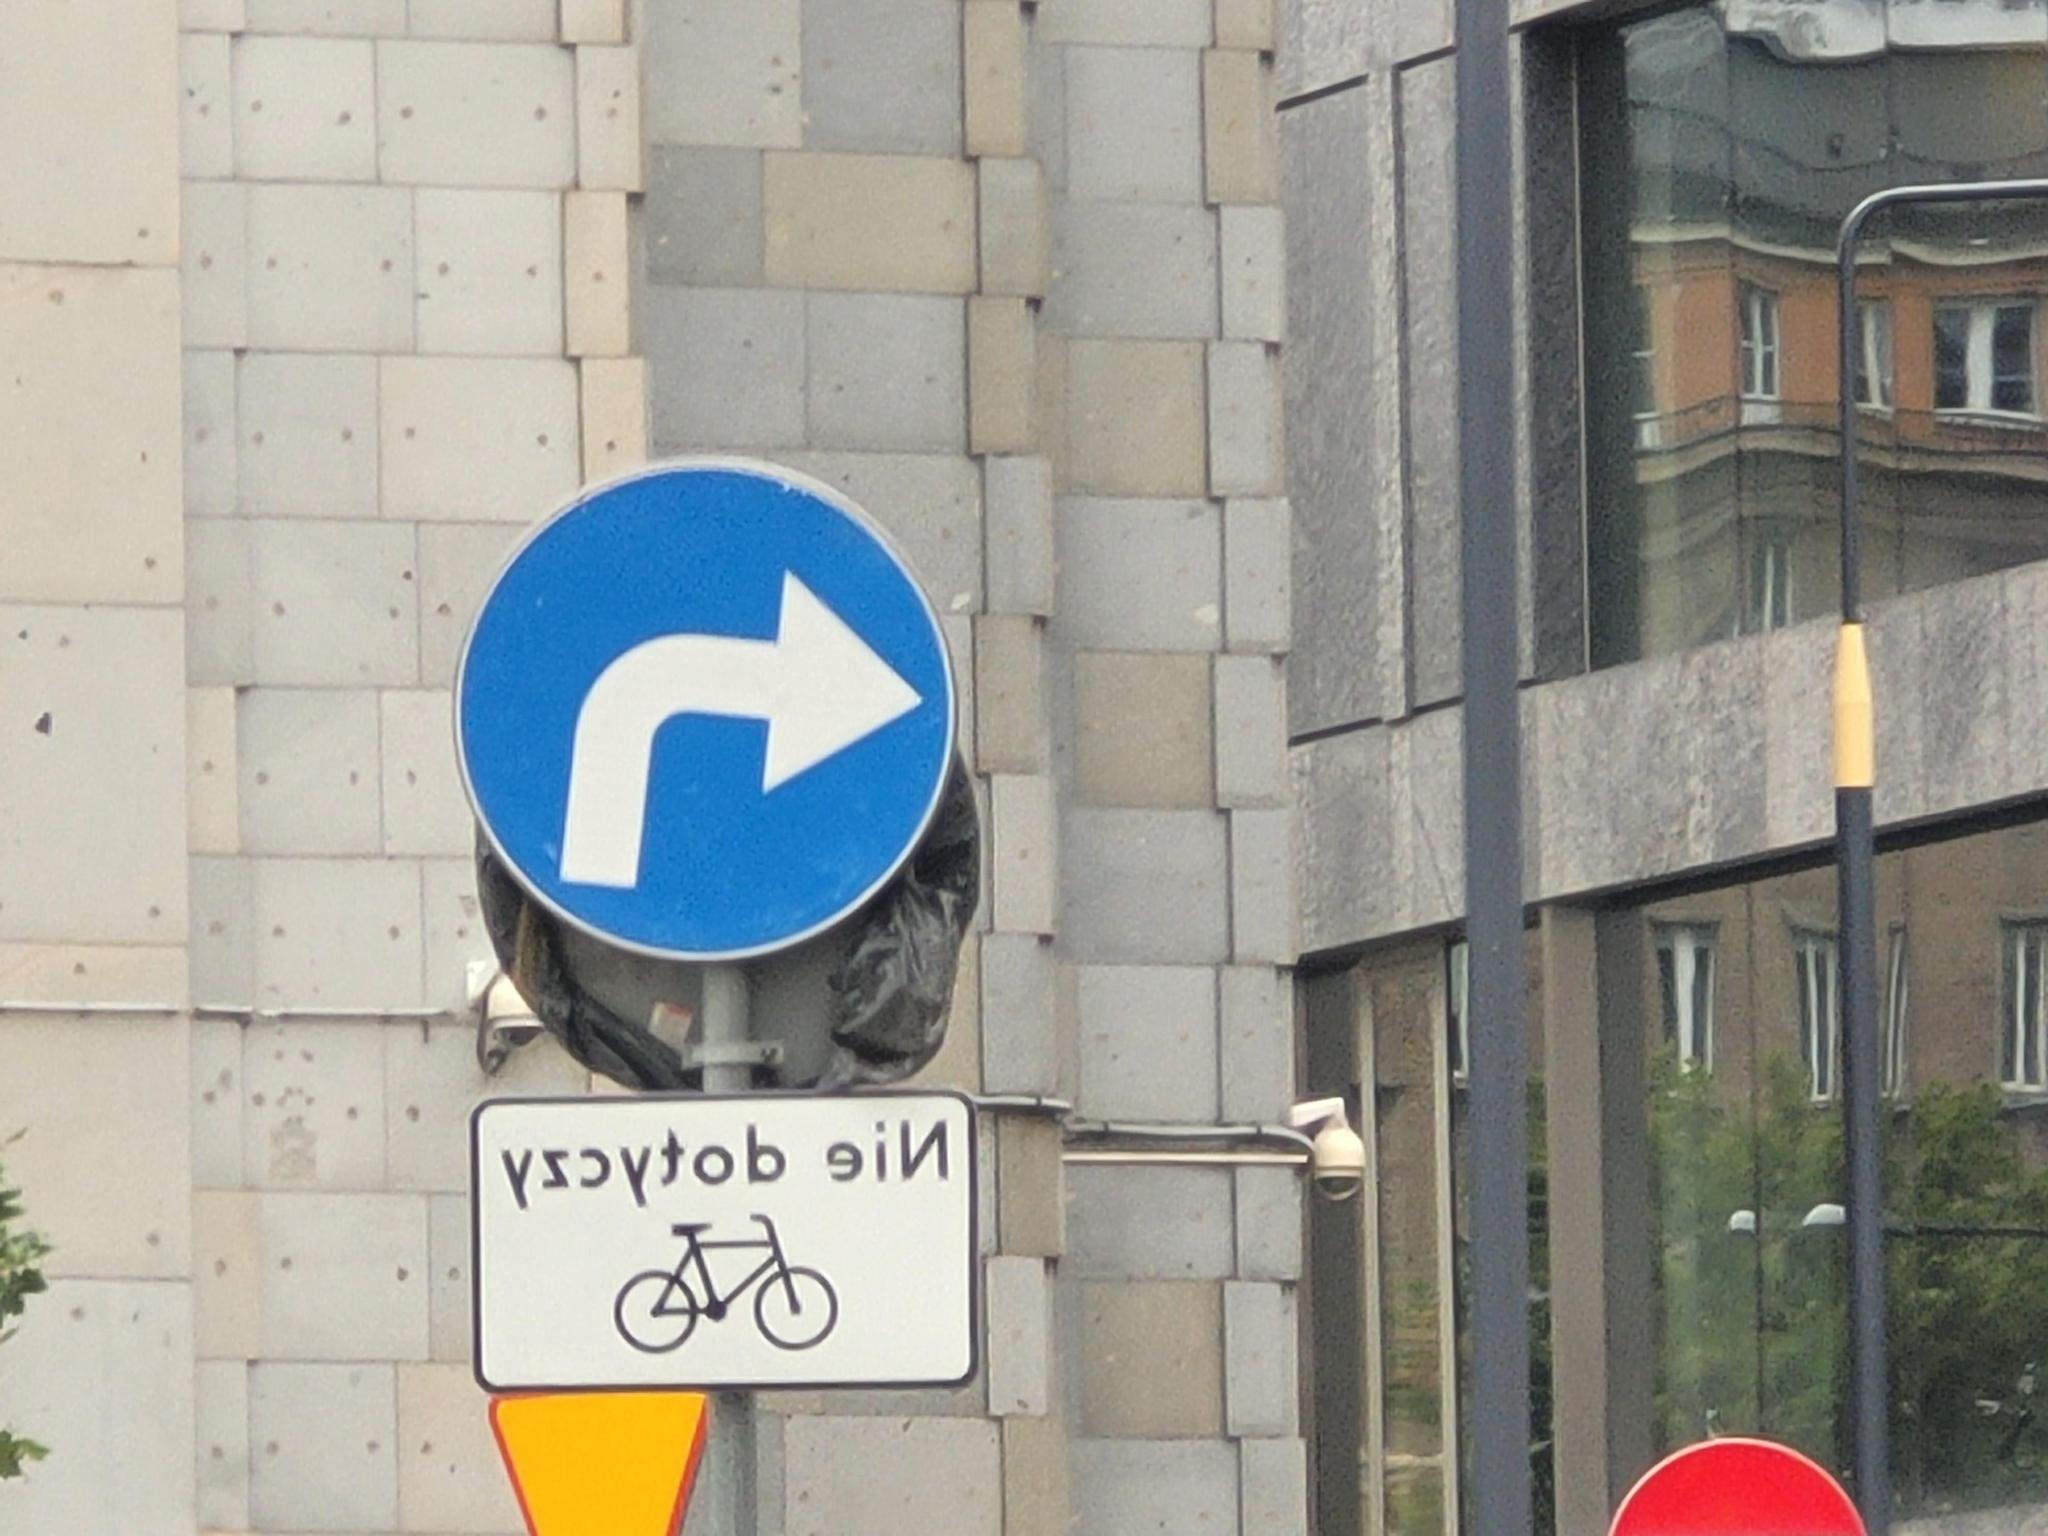mandatory: (456, 455, 953, 970)
other: (479, 1091, 971, 1376)
warning: (487, 1394, 710, 1536)
